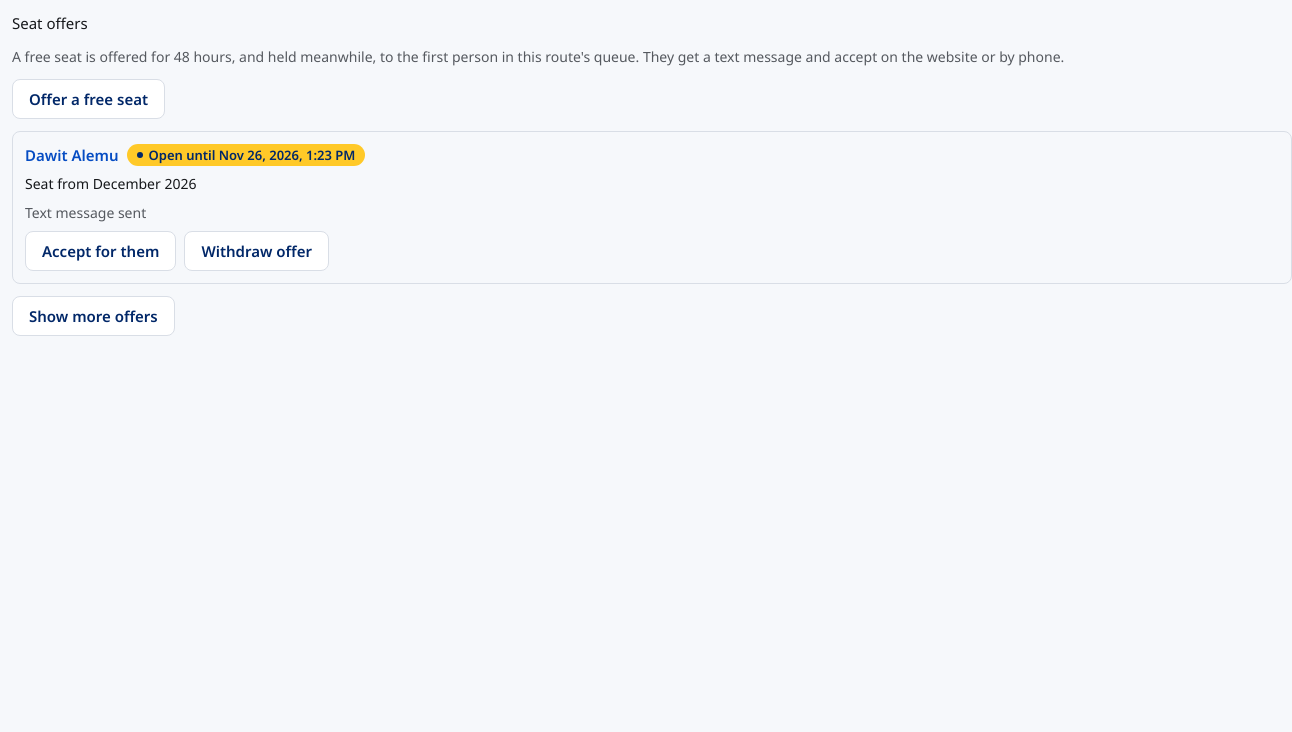
Test: SeatOffers: keeping the list current › keeps the loaded offers when the next page fails, and retries that page
Check: the link "Dawit Alemu" is shown, box [25,144,118,166]
Click the button "Show more offers". click: {"x": 93, "y": 316}
box: [12,296,175,336]
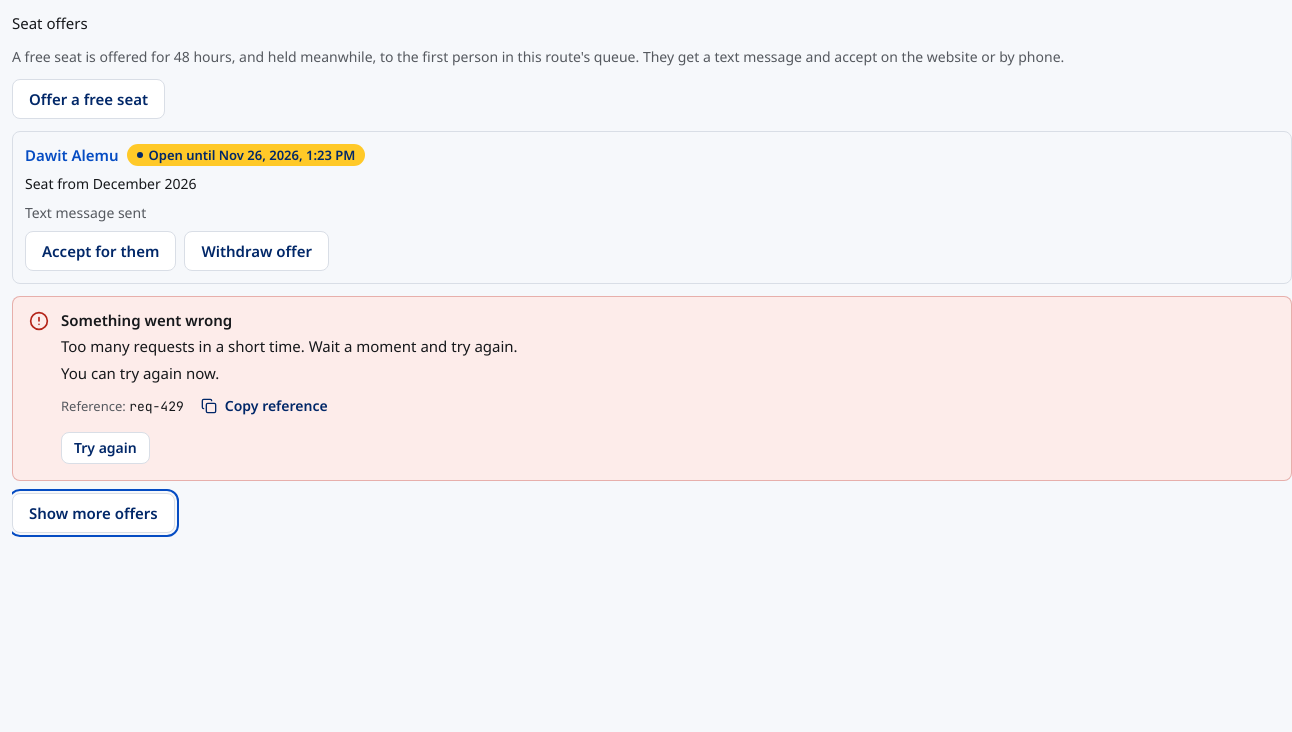
Check: the link "Dawit Alemu" is shown, box [25,144,118,166]
Check: the text "req-429" is shown, box [129,398,184,415]
Click the button "Try again". click: {"x": 105, "y": 448}
box: [61,432,150,464]
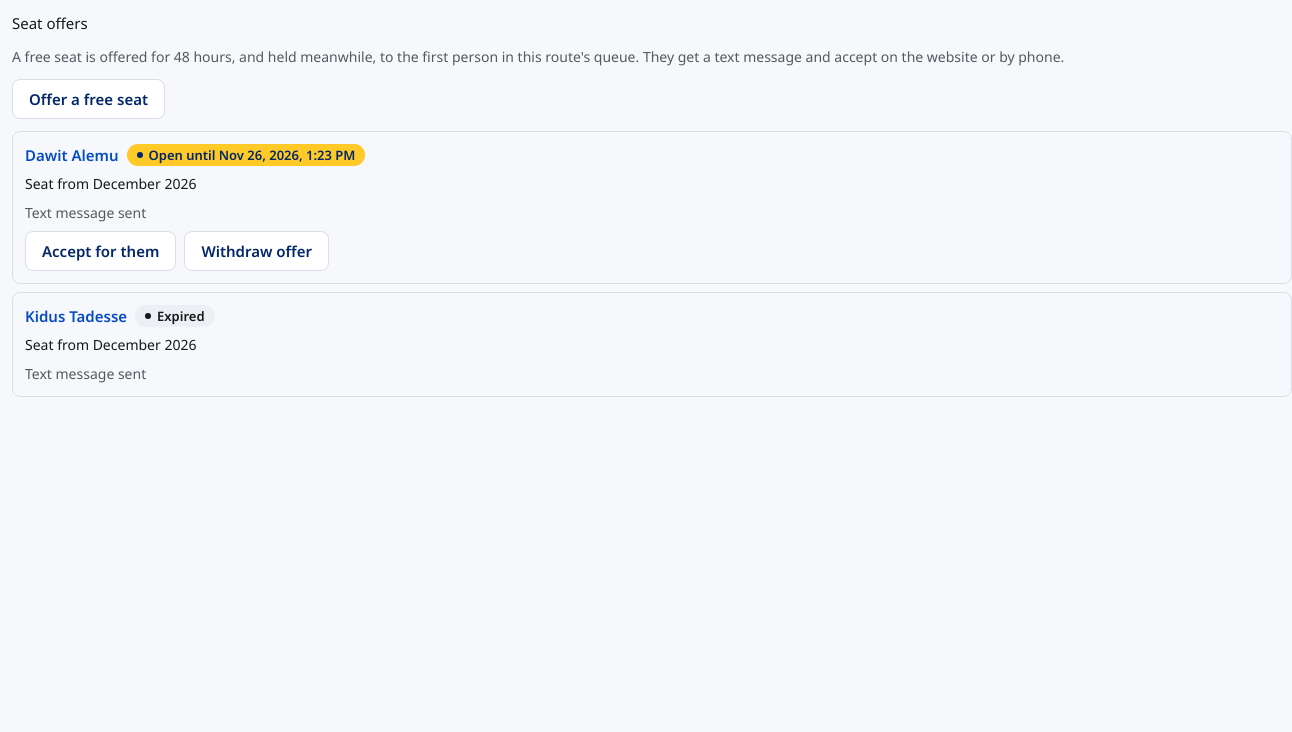
Check: the link "Kidus Tadesse" is shown, box [25,305,127,327]
